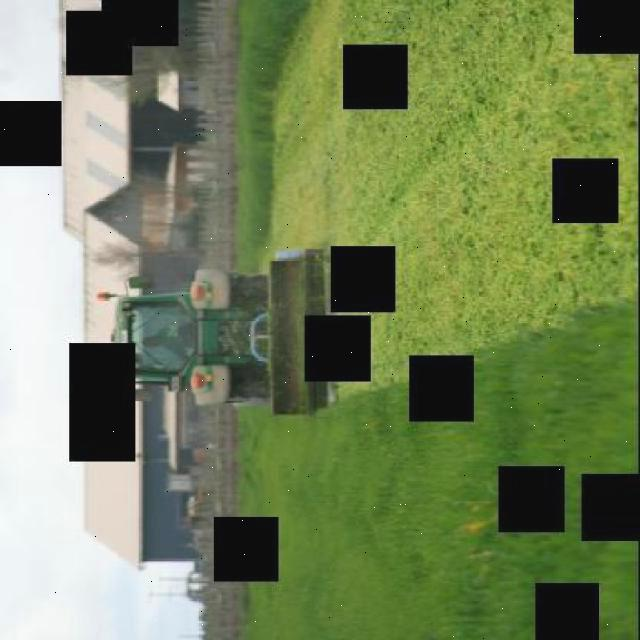Tratores - v5 YOLO V8L 2024-11-13: (67, 238, 350, 432)
